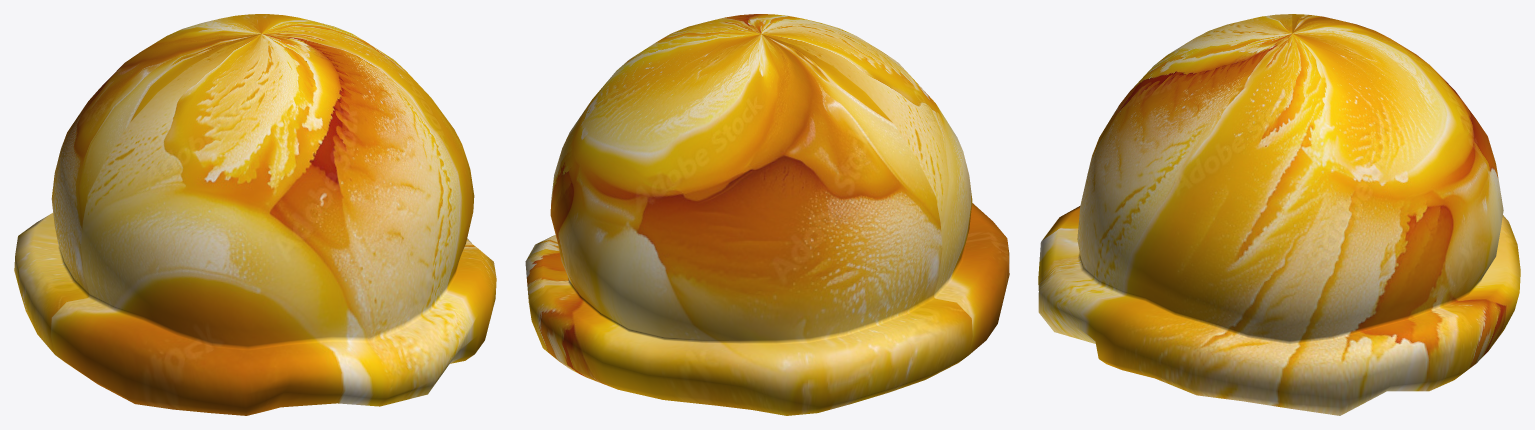
The model's file is scoop-mango.gltf.
3 renders of one model, left to right at view 1: azimuth 30°, elevation 25°; view 2: azimuth 150°, elevation 25°; view 3: azimuth 270°, elevation 25°, orthographic. The views are drawn at different scales.
Parts seen in each view (by area): view 1: Scoop; view 2: Scoop; view 3: Scoop.
Part boxes in pixels (x1,y1,x2,y2): Scoop: [14, 14, 496, 415]; Scoop: [525, 14, 1009, 415]; Scoop: [1038, 14, 1520, 415].
Bounding box in the file's own units: 1.33 × 0.9831 × 1.38.
1 material, 1 textured.
